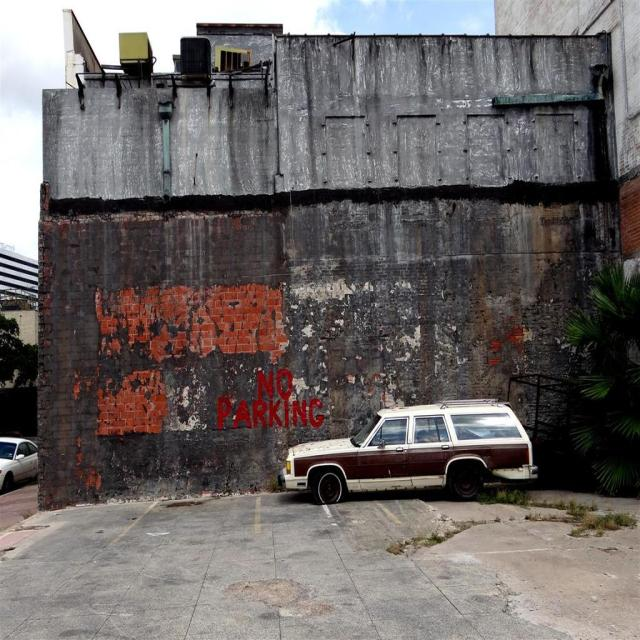car: (281, 399, 531, 504)
